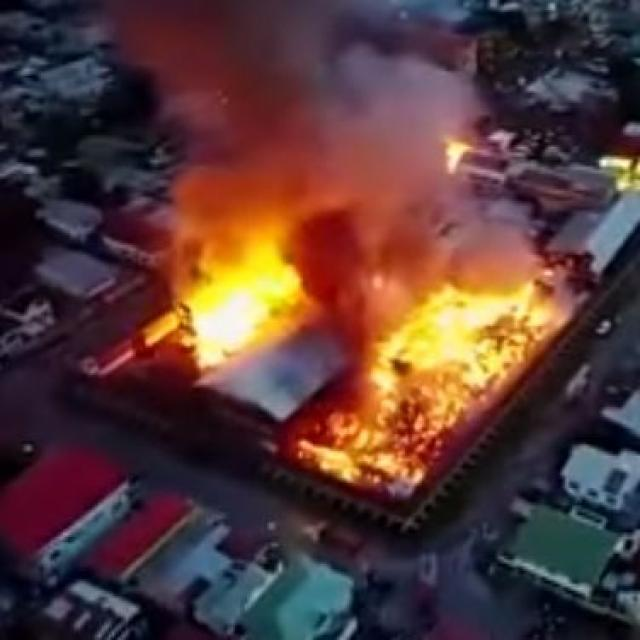Fire: (367, 199, 585, 492), (200, 280, 285, 362), (240, 245, 294, 308), (433, 124, 477, 177)
Smoke: (177, 19, 423, 165)
